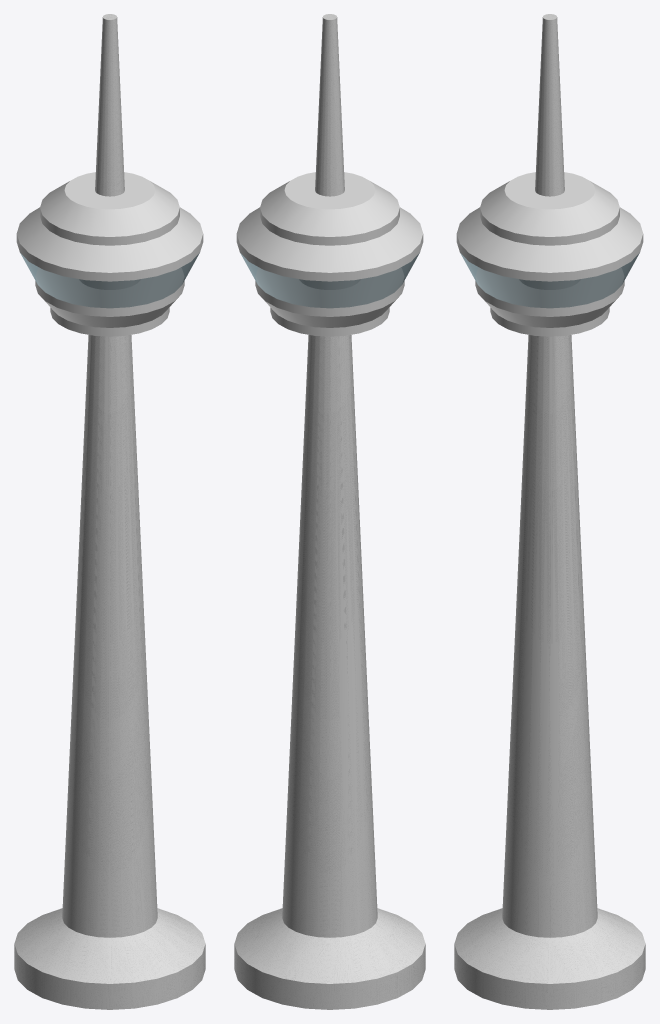
The picture shows the model from 3 angles, left to right: view 1: azimuth 30°, elevation 25°; view 2: azimuth 150°, elevation 25°; view 3: azimuth 270°, elevation 25°; orthographic projection.
Parts seen in each view (by area): view 1: SketchUp (×5); view 2: SketchUp (×5); view 3: SketchUp (×5).
Boxes of the visible parts, x1,y1,x2,y2 form: SketchUp (×5): (14,14,205,1009); SketchUp (×5): (234,14,425,1009); SketchUp (×5): (454,14,645,1009).
Size of the model in its own units: 1200 by 1200 by 6600.
